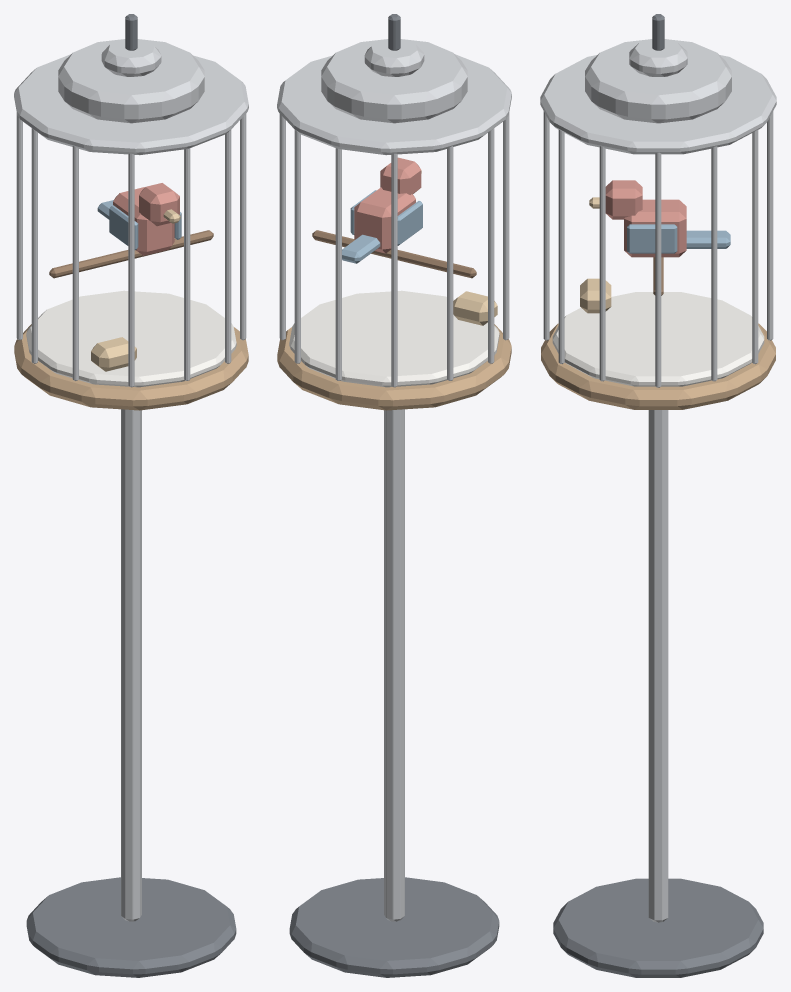
Rendered from BirdCage.glb.
The picture shows the model from 3 angles, left to right: view 1: azimuth 30°, elevation 25°; view 2: azimuth 150°, elevation 25°; view 3: azimuth 270°, elevation 25°; orthographic projection.
Visible parts, largest first — view 1: BirdCage_Body; view 2: BirdCage_Body; view 3: BirdCage_Body.
Boxes of the visible parts, box(x1,y1,x2,y2) form: BirdCage_Body: box(14, 14, 248, 977); BirdCage_Body: box(277, 14, 511, 977); BirdCage_Body: box(540, 14, 776, 977).
Bounding box in the file's own units: 0.3705 × 1.62 × 0.3766.
